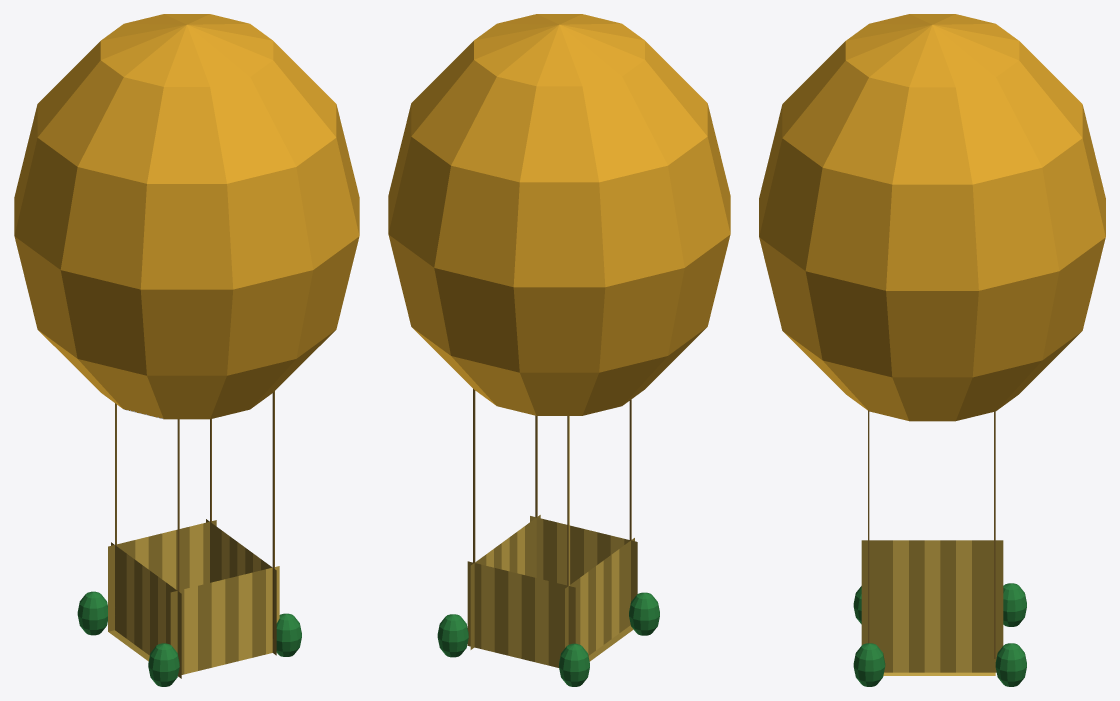
Rendered from balloon.gltf.
3 renders of one model, left to right at view 1: azimuth 30°, elevation 25°; view 2: azimuth 150°, elevation 25°; view 3: azimuth 270°, elevation 25°, orthographic.
Parts seen in each view (by area): view 1: sphere (×4), plane (×18), cube; view 2: sphere (×4), plane (×18); view 3: sphere (×4), plane (×18).
Boxes of the visible parts, x1,y1,x2,y2 form: sphere (×4): (14,14,359,686); plane (×18): (108,523,279,674); cube: (272,391,274,638); sphere (×4): (388,14,730,686); plane (×18): (467,519,626,667); sphere (×4): (759,14,1105,686); plane (×18): (861,540,1003,672).
Bounding box in the file's own units: 22 × 44 × 22.
Materials: 4 (4 with a texture image).
